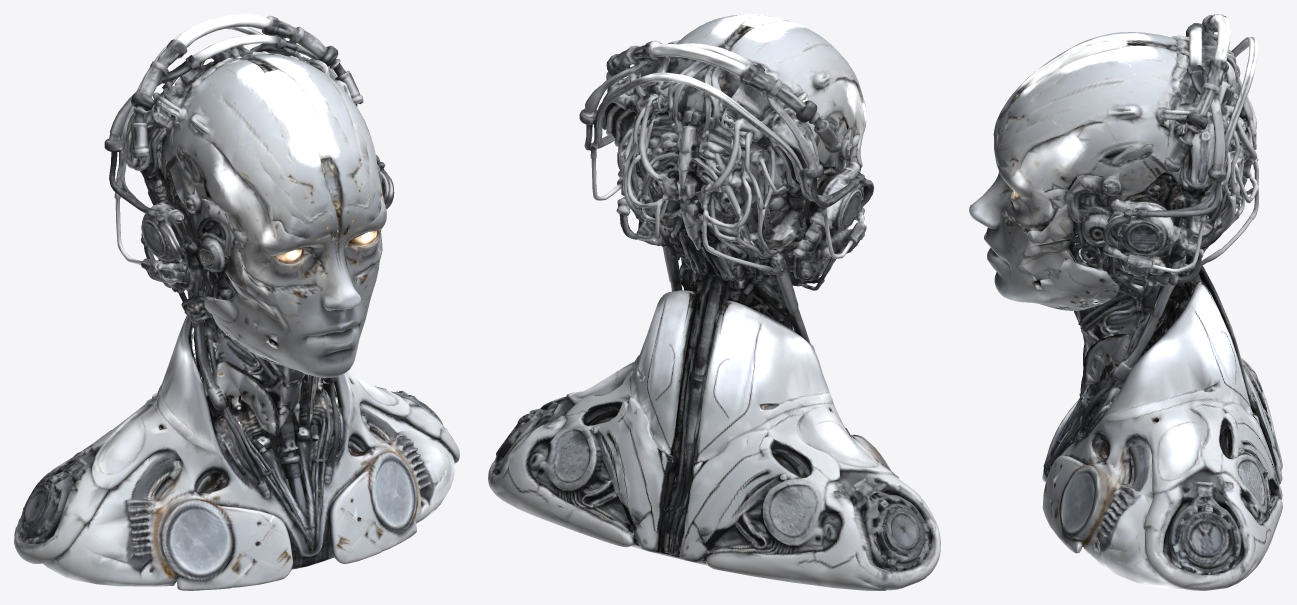
File: shrink-head.glb
3 views of the same model, side by side, from view 1: azimuth 30°, elevation 25°; view 2: azimuth 150°, elevation 25°; view 3: azimuth 270°, elevation 25° (orthographic). The views are drawn at different scales.
Size of the model in its own units: 1.75 by 1.9 by 1.15.
Materials: 1 (1 with a texture image).
